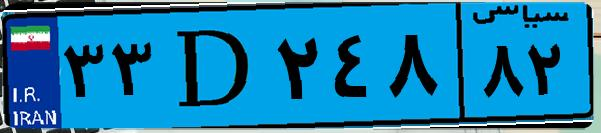2: (270, 28, 330, 110), (525, 38, 570, 115)
3: (57, 26, 110, 100), (110, 28, 158, 98)
4: (330, 28, 385, 110)
8: (385, 28, 445, 110), (475, 38, 525, 113)
D: (158, 12, 270, 120)
